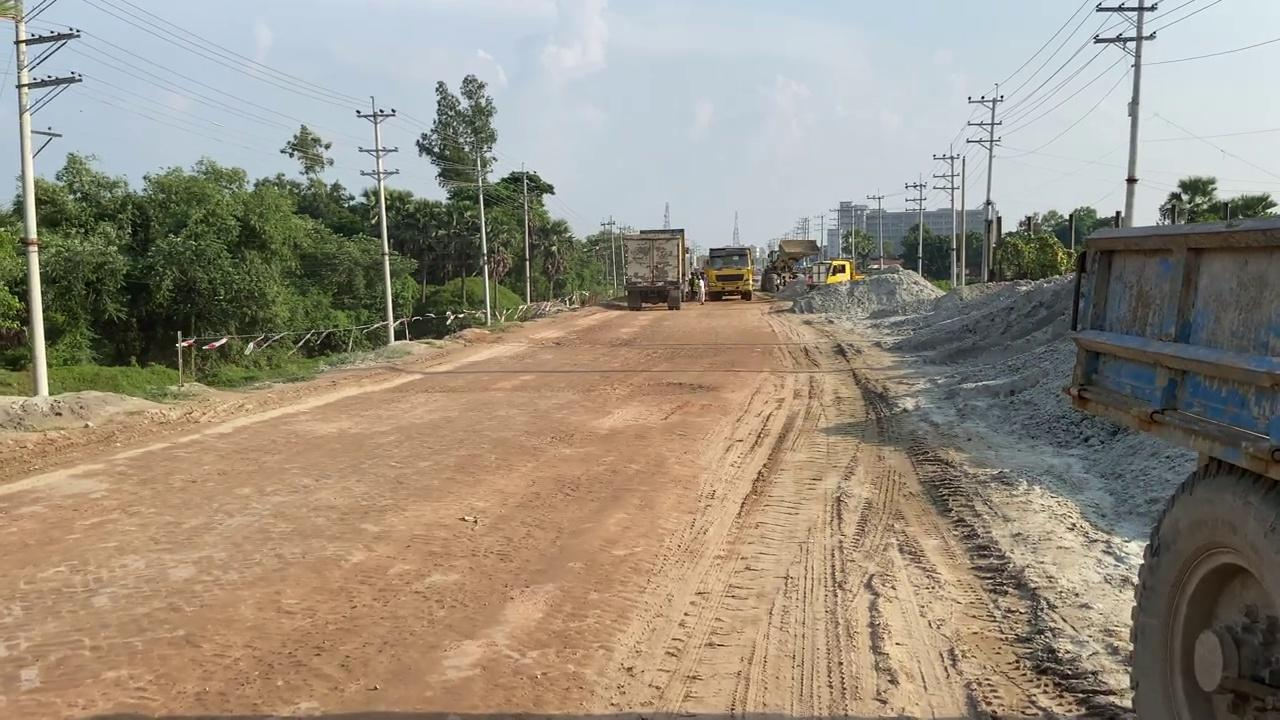Pole: (1092, 0, 1158, 227), (474, 149, 492, 325), (520, 162, 531, 305)
Tree: (1060, 214, 1278, 717), (620, 227, 686, 310), (760, 238, 820, 293), (701, 245, 754, 301), (805, 258, 864, 288)
